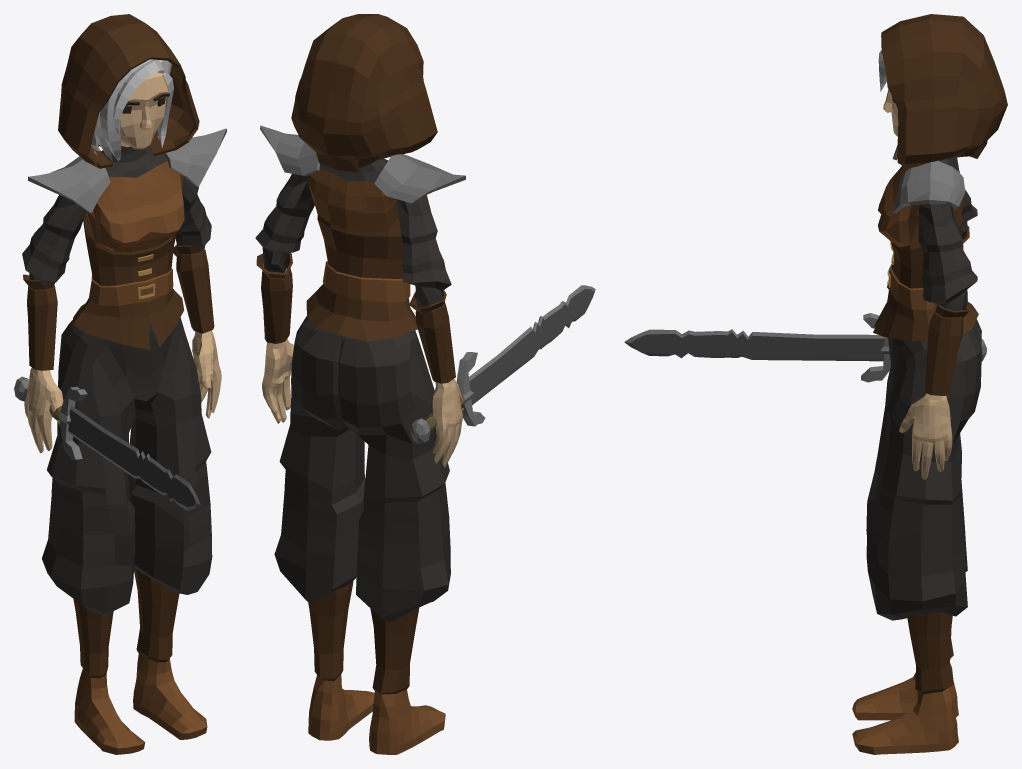
File: medieval-woman.glb
The picture shows the model from 3 angles, left to right: view 1: azimuth 30°, elevation 25°; view 2: azimuth 150°, elevation 25°; view 3: azimuth 270°, elevation 25°; orthographic projection. The views are drawn at different scales.
Parts seen in each view (by area): view 1: Medieval_Legs, Medieval_Body, Medieval_Head, Medieval_Feet, Sword; view 2: Medieval_Legs, Medieval_Body, Medieval_Head, Medieval_Feet, Sword; view 3: Medieval_Legs, Medieval_Body, Medieval_Head, Medieval_Feet, Sword.
Boxes of the visible parts, <box> form: Medieval_Legs: <box>42,316,212,615</box>; Medieval_Body: <box>22,128,226,453</box>; Medieval_Head: <box>58,14,199,168</box>; Medieval_Feet: <box>73,566,207,754</box>; Sword: <box>14,376,200,510</box>; Medieval_Legs: <box>274,316,450,622</box>; Medieval_Body: <box>255,125,465,467</box>; Medieval_Head: <box>291,14,437,172</box>; Medieval_Feet: <box>308,581,445,754</box>; Sword: <box>410,285,595,444</box>; Medieval_Legs: <box>866,319,981,620</box>; Medieval_Body: <box>873,145,978,479</box>; Medieval_Head: <box>878,14,1007,168</box>; Medieval_Feet: <box>852,612,958,754</box>; Sword: <box>624,313,986,382</box>.
Size of the model in its own units: 0.5612 by 1.87 by 0.9165.
